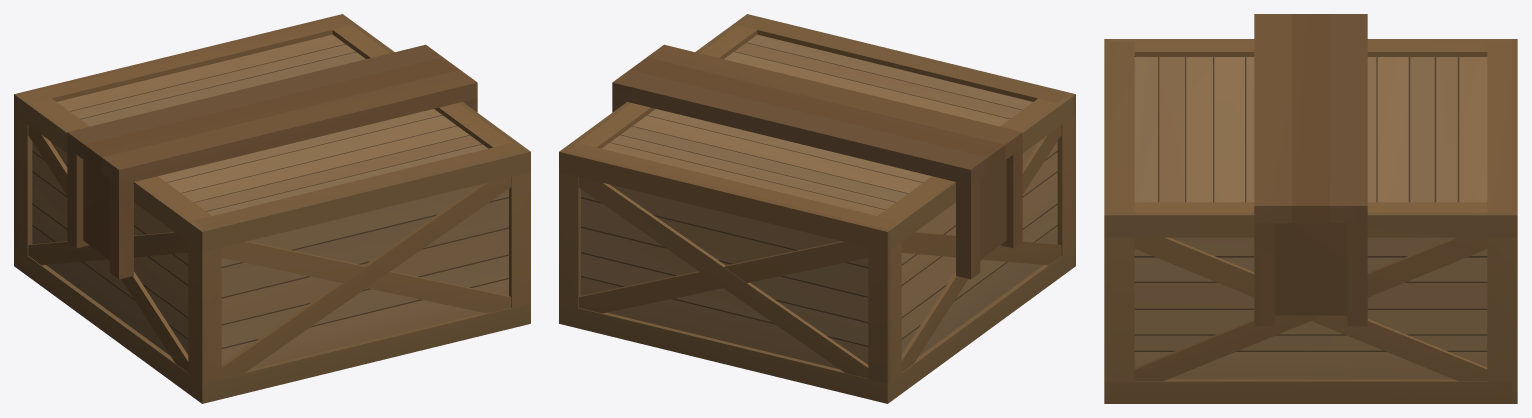
File: crate.factory.x_brace.glb
The picture shows the model from 3 angles, left to right: view 1: azimuth 30°, elevation 25°; view 2: azimuth 150°, elevation 25°; view 3: azimuth 270°, elevation 25°; orthographic projection. The views are drawn at different scales.
Visible parts, largest first — view 1: crate_factory_x_brace; view 2: crate_factory_x_brace; view 3: crate_factory_x_brace.
Boxes of the visible parts, left/top/right/bottom form: crate_factory_x_brace: left=14, top=14, right=530, bottom=403; crate_factory_x_brace: left=559, top=14, right=1075, bottom=403; crate_factory_x_brace: left=1104, top=14, right=1517, bottom=403.
Size of what is drawn, in the model's own units: 2.4 by 1.2 by 2.18.
